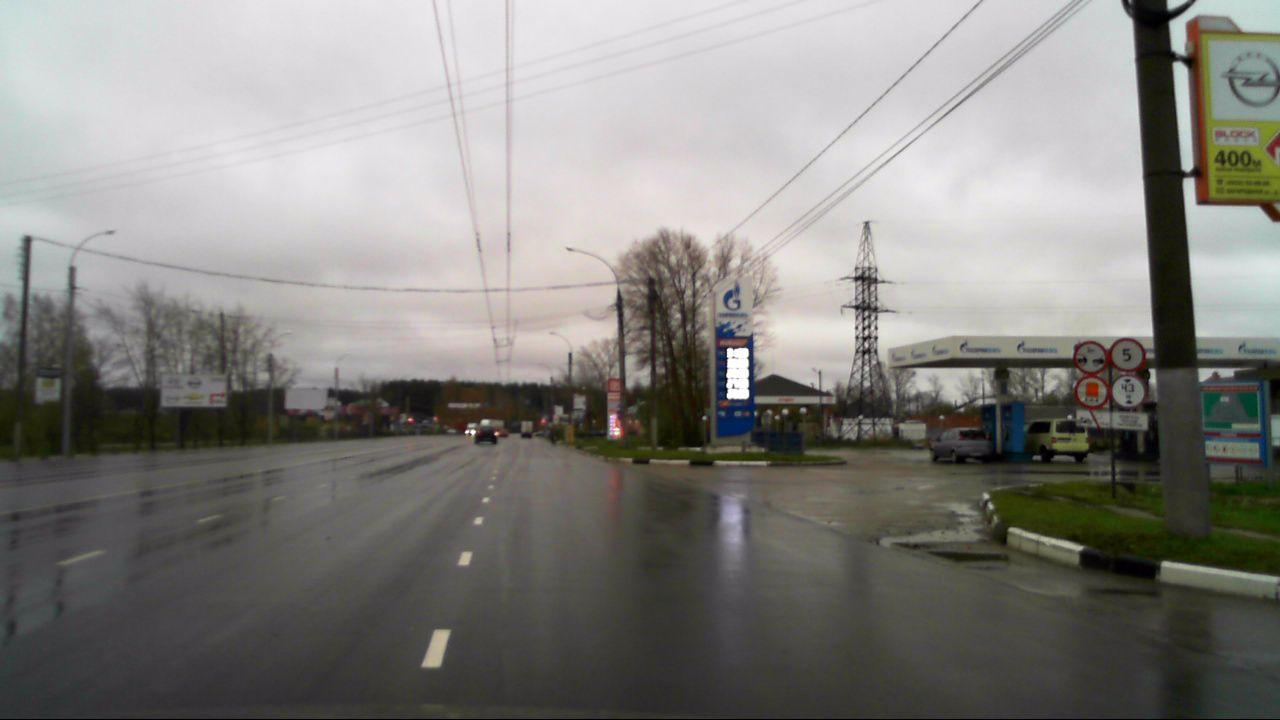3_13: (1112, 375, 1147, 407)
3_16: (1073, 339, 1108, 376)
3_24: (1108, 337, 1148, 373)
3_32: (1073, 376, 1109, 408)
